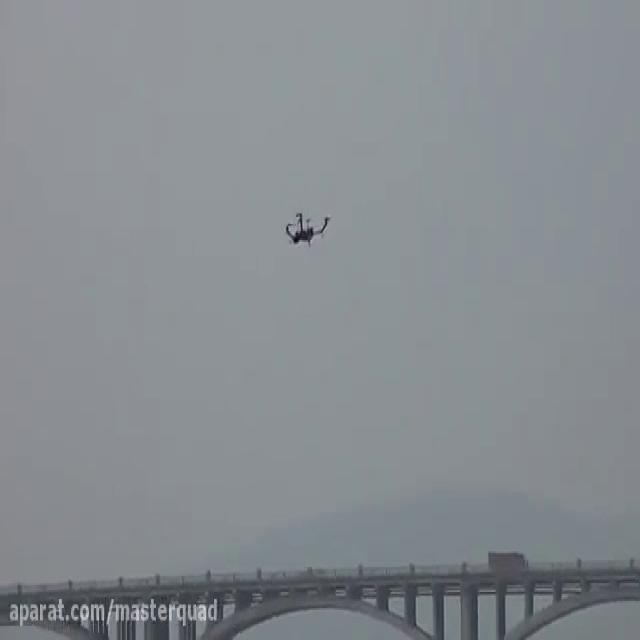drone: (282, 206, 332, 252)
